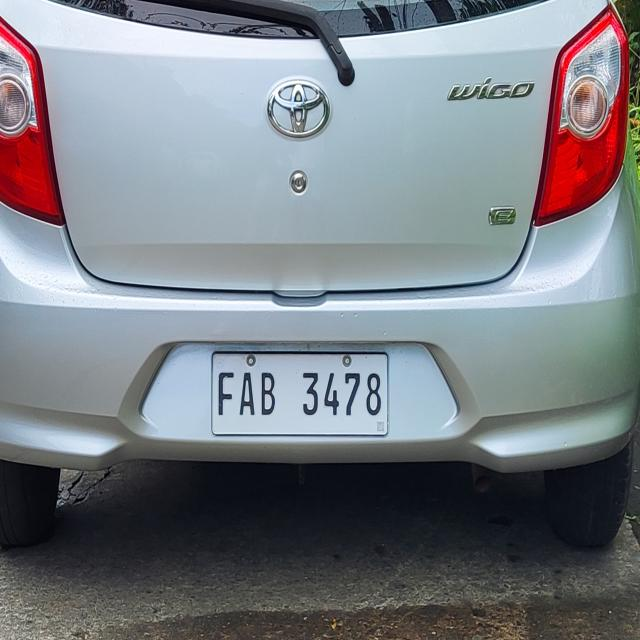plate: (210, 350, 390, 437)
